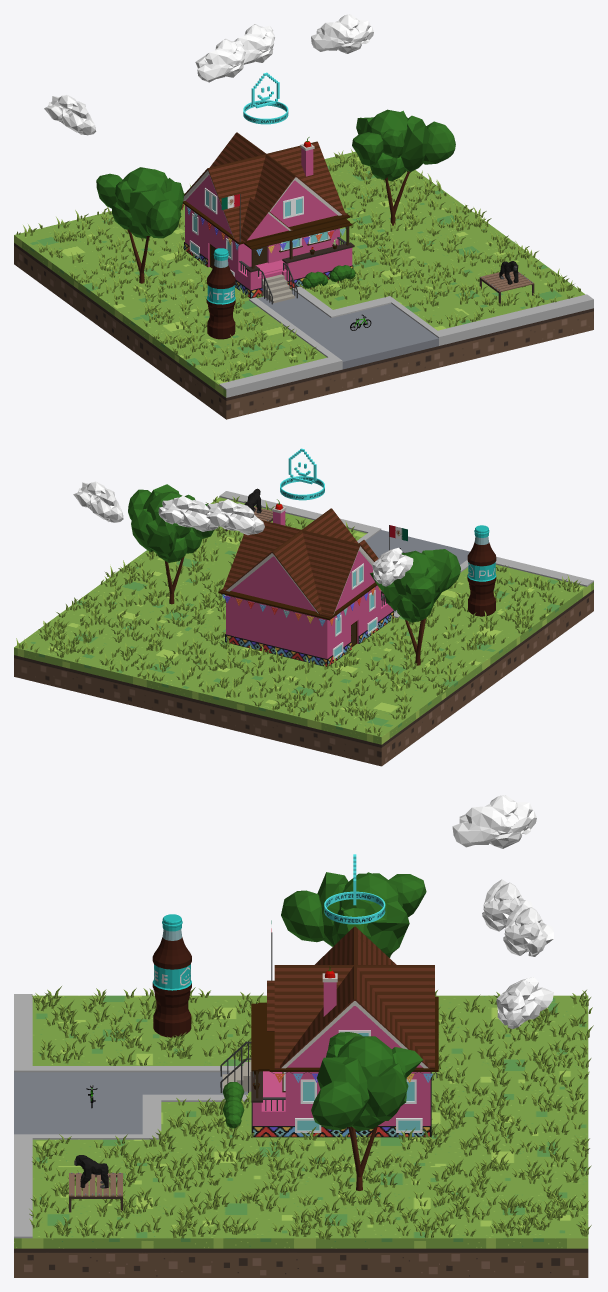
The picture shows the model from 3 angles, top to bottom: view 1: azimuth 30°, elevation 25°; view 2: azimuth 150°, elevation 25°; view 3: azimuth 270°, elevation 25°; orthographic projection. The views are drawn at different scales.
Visible parts, largest first — view 1: Cube.006, Cube.1005, Circle.012_Grass_0.192, Cube.007, tree, tree.001, OBJRANDOM_PLATZEECOLA, TYPE_PREMIUM, Cube.009; view 2: Cube.006, Cube.1005, Circle.012_Grass_0.192, Cube.007, tree.001, tree, OBJRANDOM_PLATZEECOLA, TYPE_PREMIUM; view 3: Cube.006, Circle.012_Grass_0.192, Cube.1005, tree, Cube.007, tree.001, OBJRANDOM_PLATZEECOLA, Cube.009, TYPE_PREMIUM, ANIMAL_GORILA.
Part boxes in pixels (x1,y1,x2,y2): Cube.006: (14,151,593,419); Cube.1005: (181,132,354,304); Circle.012_Grass_0.192: (16,149,580,381); Cube.007: (44,14,373,135); tree: (352,109,455,225); tree.001: (96,167,184,283); OBJRANDOM_PLATZEECOLA: (206,248,235,339); TYPE_PREMIUM: (243,72,288,124); Cube.009: (479,271,534,303); Cube.006: (14,491,593,766); Cube.1005: (218,499,407,666); Circle.012_Grass_0.192: (16,496,580,736); Cube.007: (73,481,413,586); tree.001: (370,549,460,665); tree: (128,484,214,604); OBJRANDOM_PLATZEECOLA: (467,525,496,616); TYPE_PREMIUM: (280,448,324,500); Cube.006: (14,994,588,1277); Circle.012_Grass_0.192: (29,986,593,1239); Cube.1005: (220,920,438,1137); tree: (311,1032,422,1190); Cube.007: (452,795,553,1029); tree.001: (281,872,426,957); OBJRANDOM_PLATZEECOLA: (152,914,191,1037); Cube.009: (69,1172,122,1212); TYPE_PREMIUM: (324,854,385,924); ANIMAL_GORILA: (74,1155,108,1188).
Size of the model in its own units: 4071 by 2278 by 4040.
Materials: 72 (6 with a texture image).
